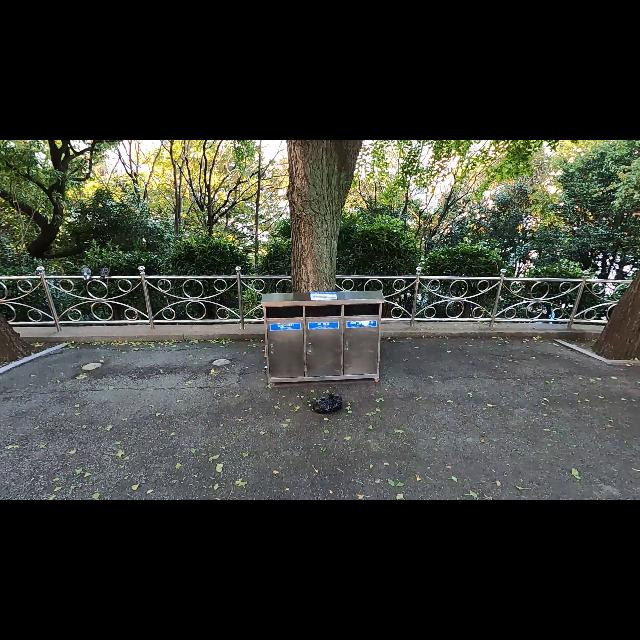trash: (314, 390, 342, 416)
